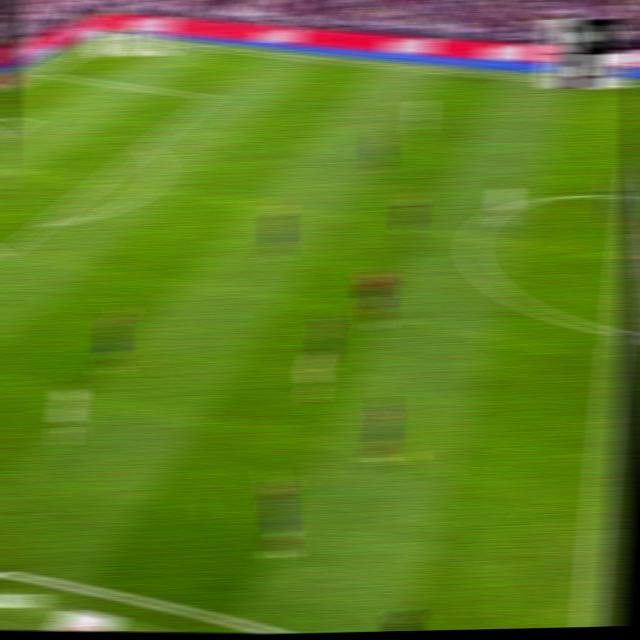bigarea_top_inner: (199, 87, 221, 104)
bigarea_top_outter: (34, 65, 53, 78)
bottom_arc_area_intersection: (33, 214, 57, 233)
halfcircle_bottom: (603, 315, 628, 344)
halfcircle_top: (619, 186, 640, 206)
smallarea_top_inner: (18, 114, 35, 126)
top_arc_area_intersection: (136, 138, 156, 154)
